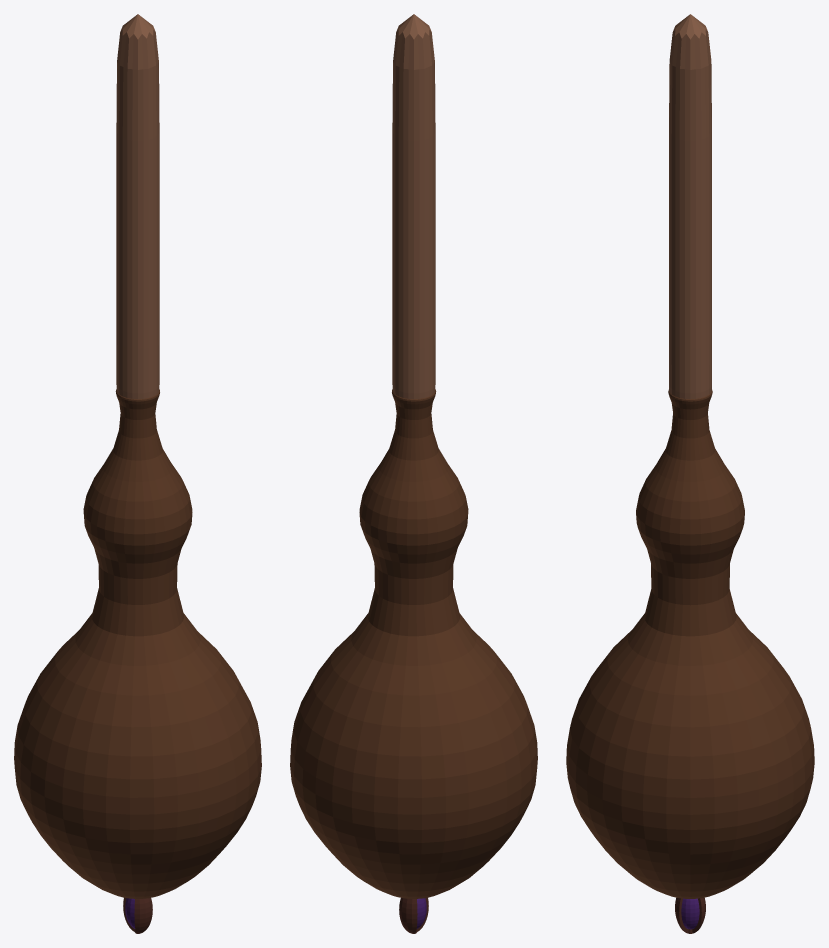
File: Wand 617.glb
3 renders of one model, left to right at view 1: azimuth 30°, elevation 25°; view 2: azimuth 150°, elevation 25°; view 3: azimuth 270°, elevation 25°, orthographic.
Visible parts, largest first — view 1: GeneratedWand; view 2: GeneratedWand; view 3: GeneratedWand.
Part boxes in pixels (x1,y1,x2,y2): GeneratedWand: (14,14,261,933); GeneratedWand: (290,14,537,933); GeneratedWand: (566,14,814,933).
Bounding box in the file's own units: 0.123 × 0.5019 × 0.123.
